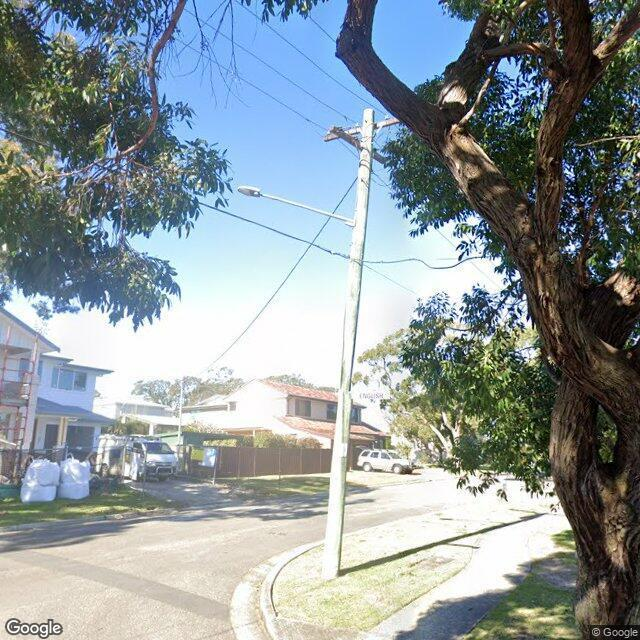crossarm: (328, 124, 388, 164), (320, 114, 400, 142)
streetlight: (237, 185, 355, 226)
timber-pole: (322, 107, 375, 580)
